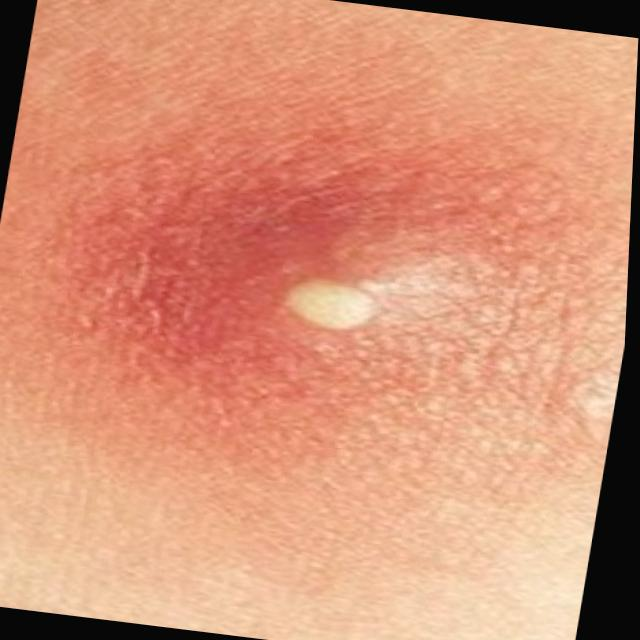pustule: (222, 249, 419, 358)
